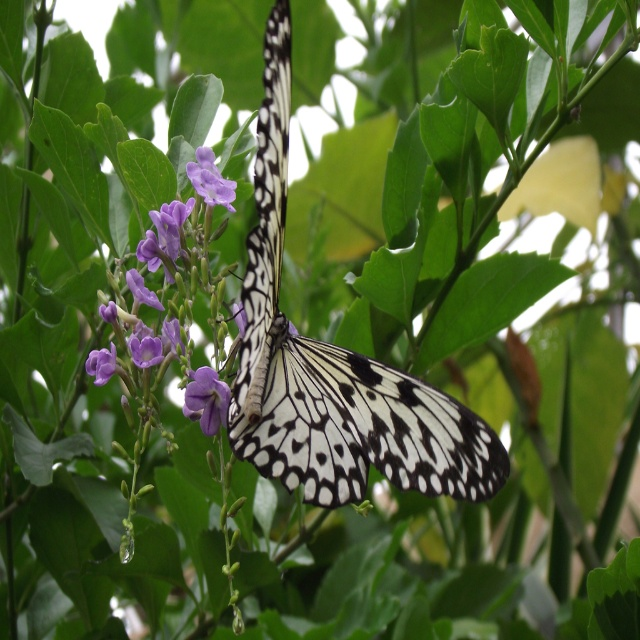Butterfly: (214, 0, 512, 504)
